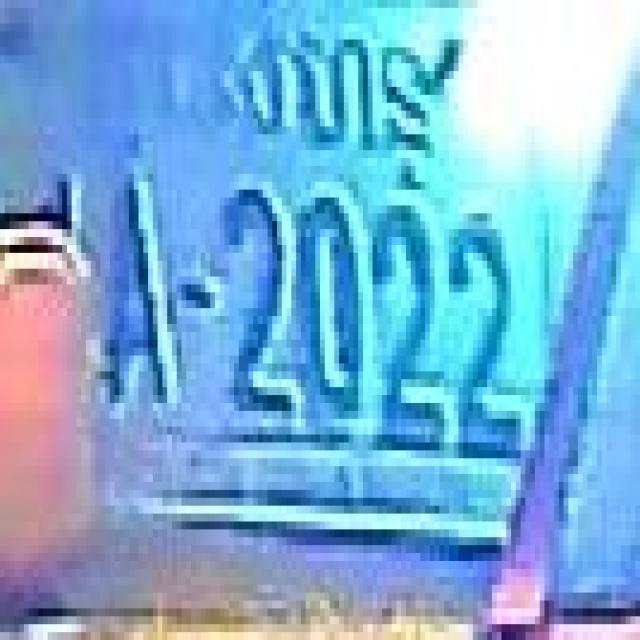Preah_Sihanouk: (120, 8, 440, 190)
